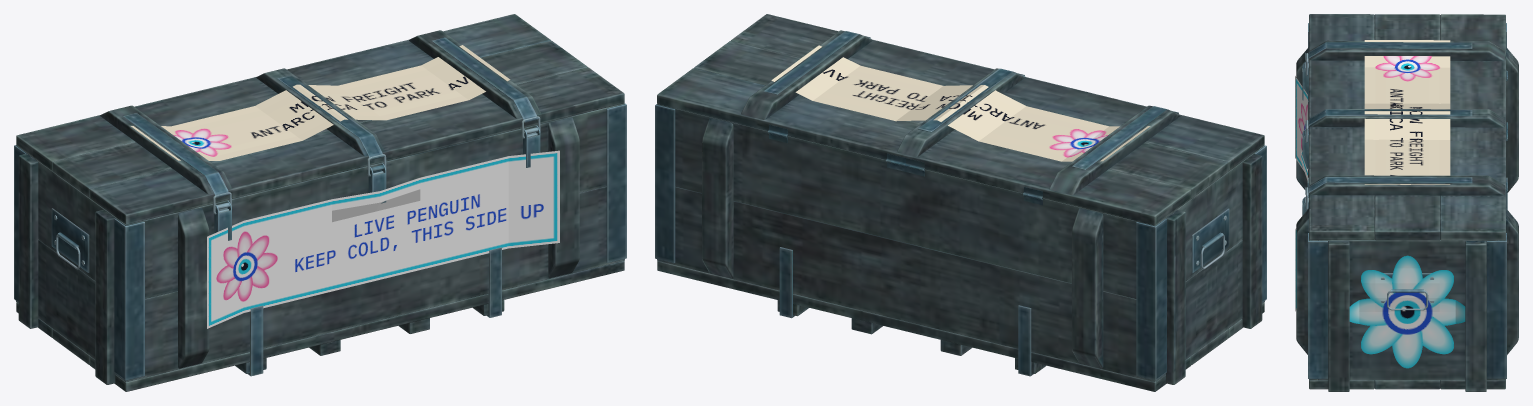
The model's file is nyb_penguins_crate.glb.
The picture shows the model from 3 angles, left to right: view 1: azimuth 30°, elevation 25°; view 2: azimuth 150°, elevation 25°; view 3: azimuth 270°, elevation 25°; orthographic projection. The views are drawn at different scales.
Parts seen in each view (by area): view 1: wooden_military_crate, stk_lbl_4fa0364ba7.png, stk_lbl_7cb1f86af7.png; view 2: wooden_military_crate, stk_lbl_7cb1f86af7.png; view 3: wooden_military_crate, stk_lbl_7cb1f86af7.png, stk_eyeflower_cyan.png, stk_lbl_4fa0364ba7.png.
Boxes of the visible parts, x1,y1,x2,y2 form: wooden_military_crate: [14, 14, 626, 391]; stk_lbl_4fa0364ba7.png: [207, 150, 559, 328]; stk_lbl_7cb1f86af7.png: [131, 45, 510, 160]; wooden_military_crate: [655, 14, 1266, 391]; stk_lbl_7cb1f86af7.png: [771, 45, 1150, 161]; wooden_military_crate: [1296, 14, 1518, 391]; stk_lbl_7cb1f86af7.png: [1364, 40, 1450, 184]; stk_eyeflower_cyan.png: [1349, 255, 1465, 368]; stk_lbl_4fa0364ba7.png: [1295, 76, 1307, 311].
Size of the model in its own units: 1.24 by 0.467 by 0.5223.
4 materials, 4 textured.
